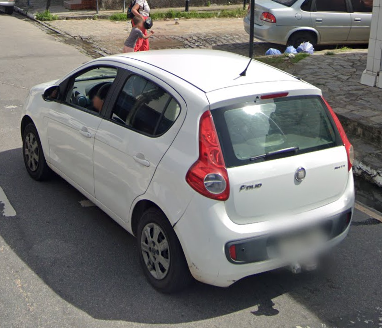car: (20, 48, 356, 294)
